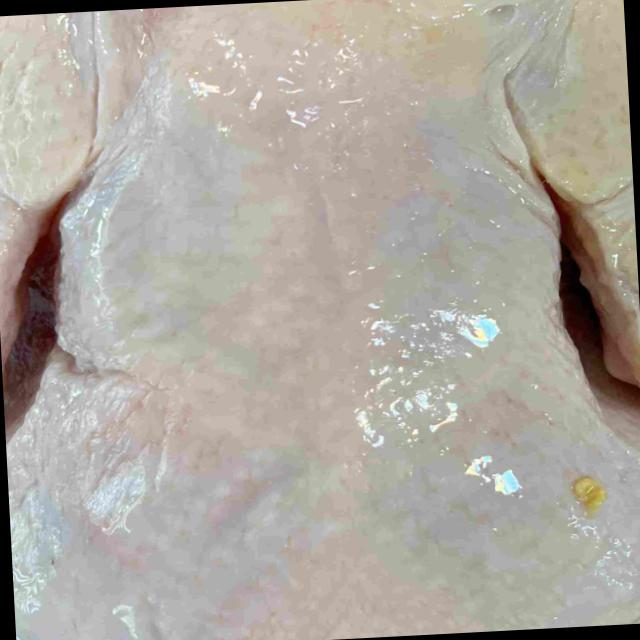back: (10, 32, 640, 640)
wing: (509, 0, 640, 398), (0, 11, 109, 398)
